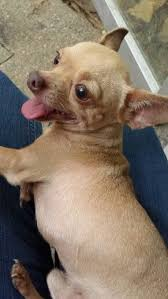chihuahua: (1, 12, 168, 297)
